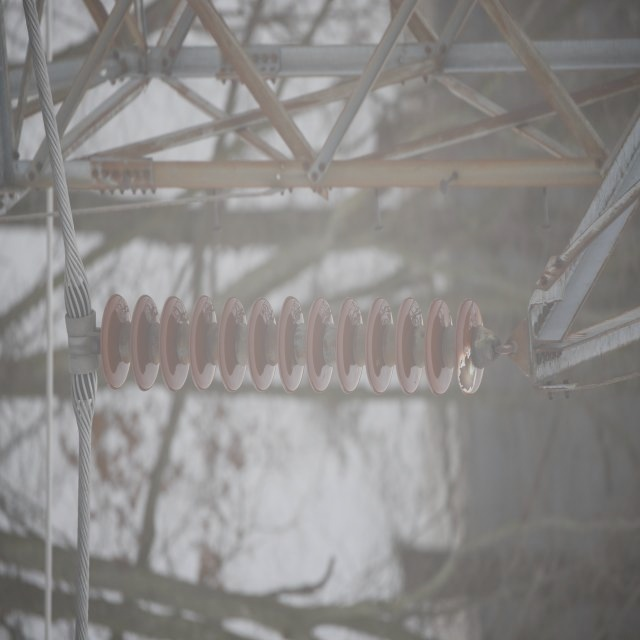insulator: (99, 291, 488, 398)
